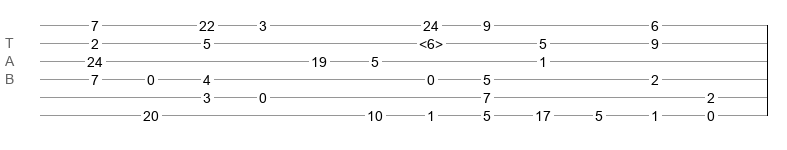0: (147, 72, 155, 82), (259, 90, 267, 100), (427, 72, 435, 82), (707, 108, 715, 118)
1: (427, 108, 435, 118), (539, 54, 547, 64), (651, 108, 659, 118)
10: (367, 108, 383, 118)
17: (535, 108, 551, 118)
19: (311, 54, 327, 64)
2: (91, 36, 99, 46), (651, 72, 659, 82), (707, 90, 715, 100)
20: (143, 108, 159, 118)
22: (199, 18, 215, 28)
24: (87, 54, 103, 64), (423, 18, 439, 28)
3: (203, 90, 211, 100), (259, 18, 267, 28)
4: (203, 72, 211, 82)
5: (203, 36, 211, 46), (371, 54, 379, 64), (483, 108, 491, 118), (483, 72, 491, 82), (539, 36, 547, 46), (595, 108, 603, 118)
6: (651, 18, 659, 28)
7: (91, 18, 99, 28), (91, 72, 99, 82), (483, 90, 491, 100)
9: (483, 18, 491, 28), (651, 36, 659, 46)
harmonic: (419, 36, 443, 46)
